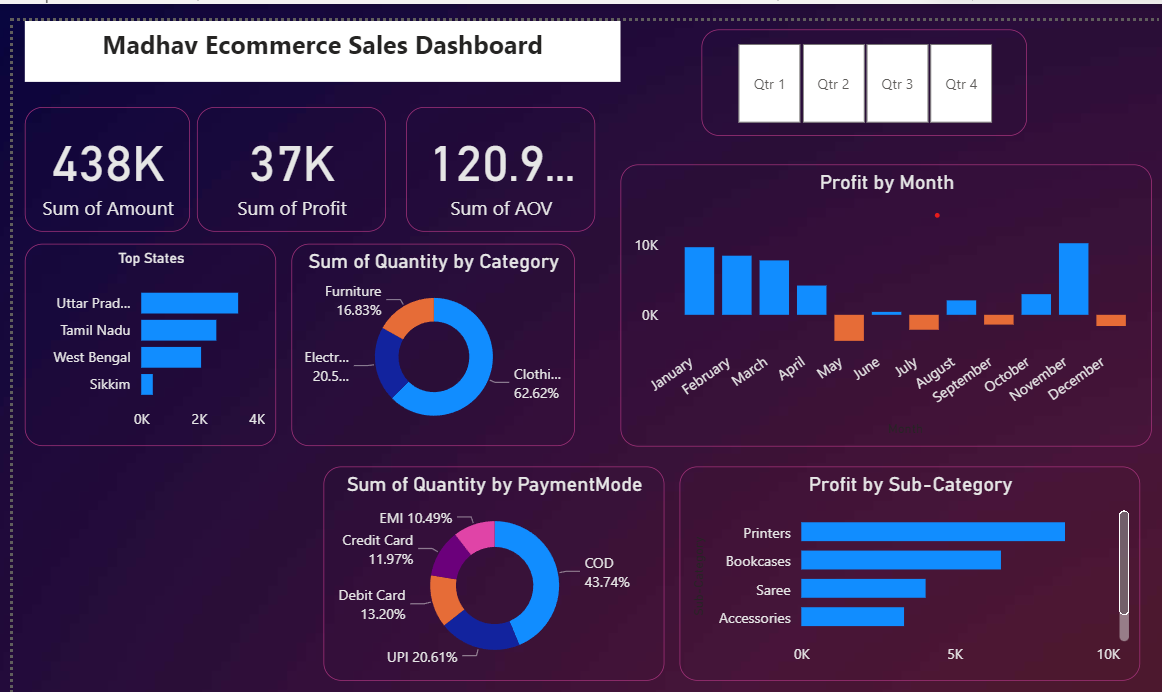

The page's visual inventory and layout, read from the dashboard file:
{"tool":"powerbi","page":{"name":"Page 1","canvas":[1280,720],"ordinal":0},"visuals":[{"type":"textbox","box":[10,0,504.3,51.4],"z":0},{"type":"columnChart","title":"Profit by Month","fields":{"Category":["Orders.Order Date.Variation.Date Hierarchy.Month"],"Y":["Sum(Details.Profit)"]},"box":[514.3,121.4,450,238.6],"z":1000},{"type":"barChart","title":"Profit by Sub-Category","fields":{"Category":["Details.Sub-Category"],"Y":["Sum(Details.Profit)"]},"box":[564.3,377.1,390,181.4],"z":2000},{"type":"donutChart","fields":{"Category":["Details.Category"],"Y":["Sum(Details.Quantity)"]},"box":[235.7,188.6,240,171.4],"z":3000},{"type":"donutChart","fields":{"Category":["Details.PaymentMode"],"Y":["Sum(Details.Quantity)"]},"box":[262.9,377.1,288.6,181.4],"z":4000},{"type":"card","fields":{"Values":["Sum(Details.Amount)"]},"box":[10,72.9,140,105.7],"z":5000},{"type":"card","fields":{"Values":["Sum(Details.Profit)"]},"box":[155.7,72.9,160,105.7],"z":6000},{"type":"card","fields":{"Values":["Sum(Details.AOV)"]},"box":[332.9,72.9,160,105.7],"z":7000},{"type":"barChart","title":"Top States","fields":{"Category":["Orders.State","Details.Sub-Category"],"Y":["Sum(Details.Profit)"]},"box":[10,188.6,212.9,171.4],"z":8000},{"type":"slicer","fields":{"Values":["Orders.Order Date.Variation.Date Hierarchy.Quarter"]},"box":[582.9,7.1,275.7,90],"z":9000}]}

Visuals, with their boxes on the page's 1280x720 design canvas (x1, y1, x2, y2). These are canvas units, not pixel positions in the 1162x692 screenshot, which may show the page scaled, cropped or inside an application window:
textbox: {"x1": 10, "y1": 0, "x2": 514, "y2": 51}
"Profit by Month" columnChart: {"x1": 514, "y1": 121, "x2": 964, "y2": 360}
"Profit by Sub-Category" barChart: {"x1": 564, "y1": 377, "x2": 954, "y2": 558}
donutChart - Details.Category x Sum(Details.Quantity): {"x1": 236, "y1": 189, "x2": 476, "y2": 360}
donutChart - Details.PaymentMode x Sum(Details.Quantity): {"x1": 263, "y1": 377, "x2": 552, "y2": 558}
card - Sum(Details.Amount): {"x1": 10, "y1": 73, "x2": 150, "y2": 179}
card - Sum(Details.Profit): {"x1": 156, "y1": 73, "x2": 316, "y2": 179}
card - Sum(Details.AOV): {"x1": 333, "y1": 73, "x2": 493, "y2": 179}
"Top States" barChart: {"x1": 10, "y1": 189, "x2": 223, "y2": 360}
slicer - Orders.Order Date.Variation.Date Hierarchy.Quarter: {"x1": 583, "y1": 7, "x2": 859, "y2": 97}
